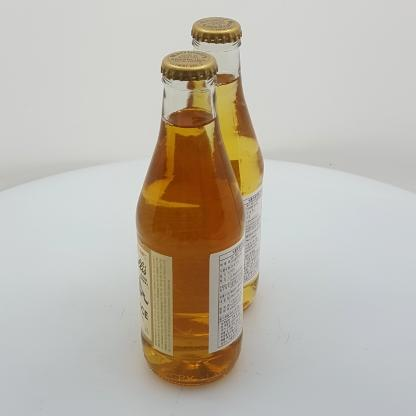------------------296ML: (135, 51, 246, 386)
